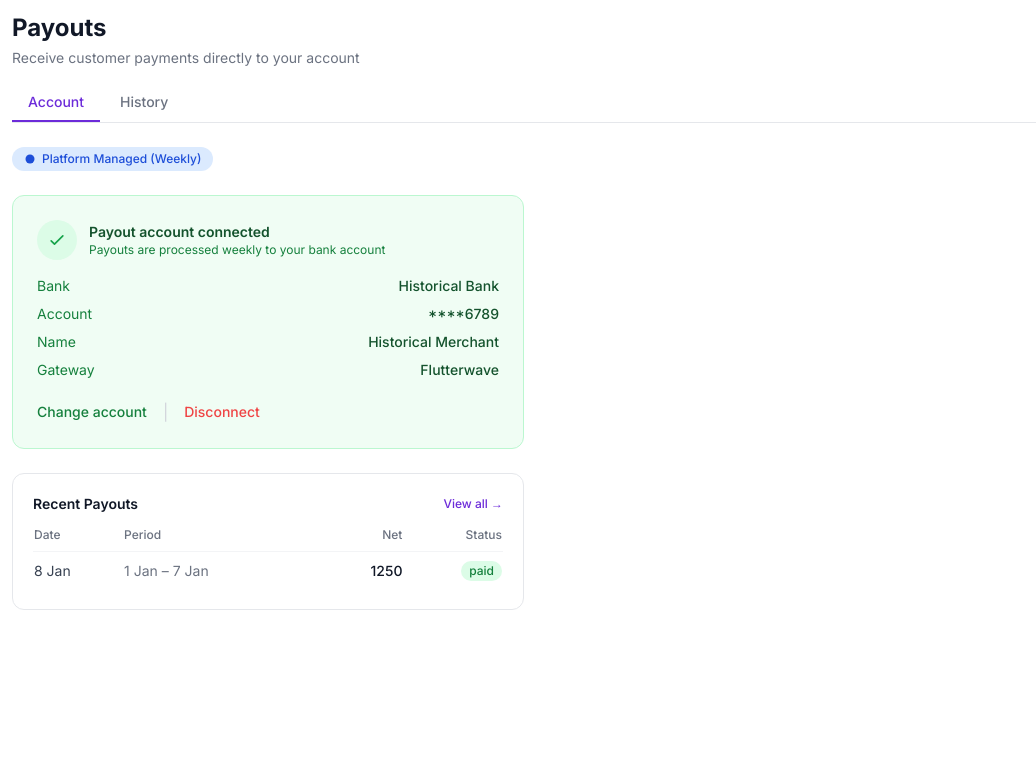
W05 rendered payout setup availability › keeps change-account password confirmation and normalizes the subsequent setup choice
The image size is (1036, 780).
Expected: the text "Payout account connected" is shown, [89,223,270,240]
Click the button "Change account": (92, 412) [37,402,147,422]
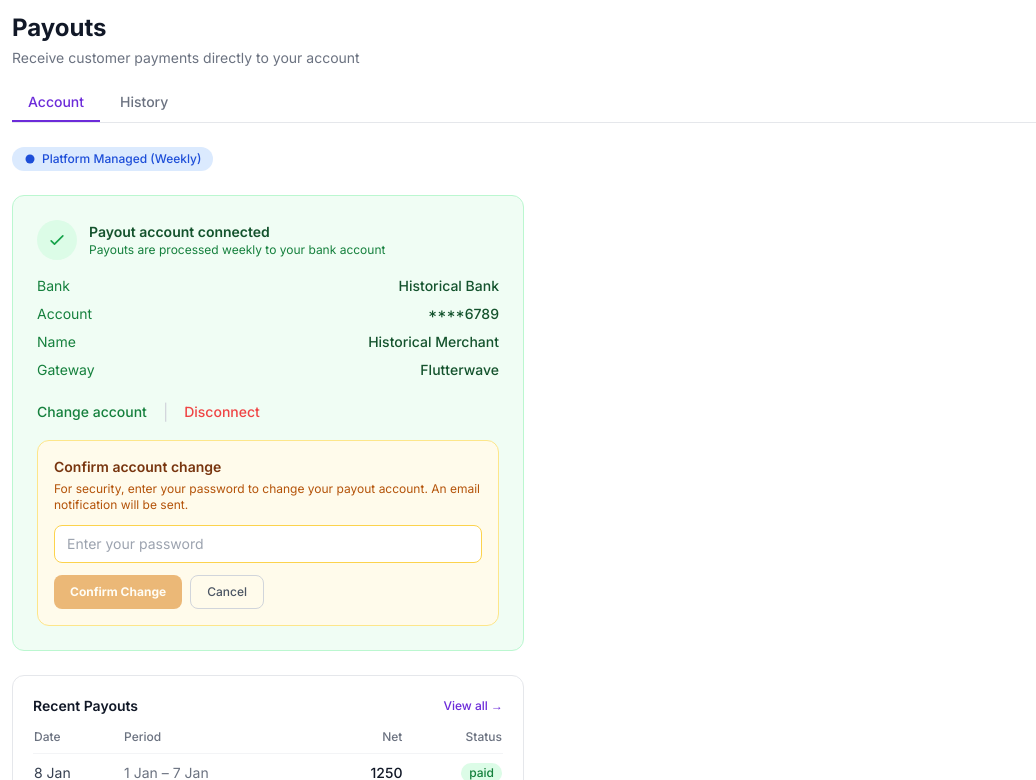
Expected: the button "Confirm Change" is disabled, [54,575,182,609]
In the password field with placeholder "Enter your password": (268, 544) [54,525,482,563], type "correct-password"
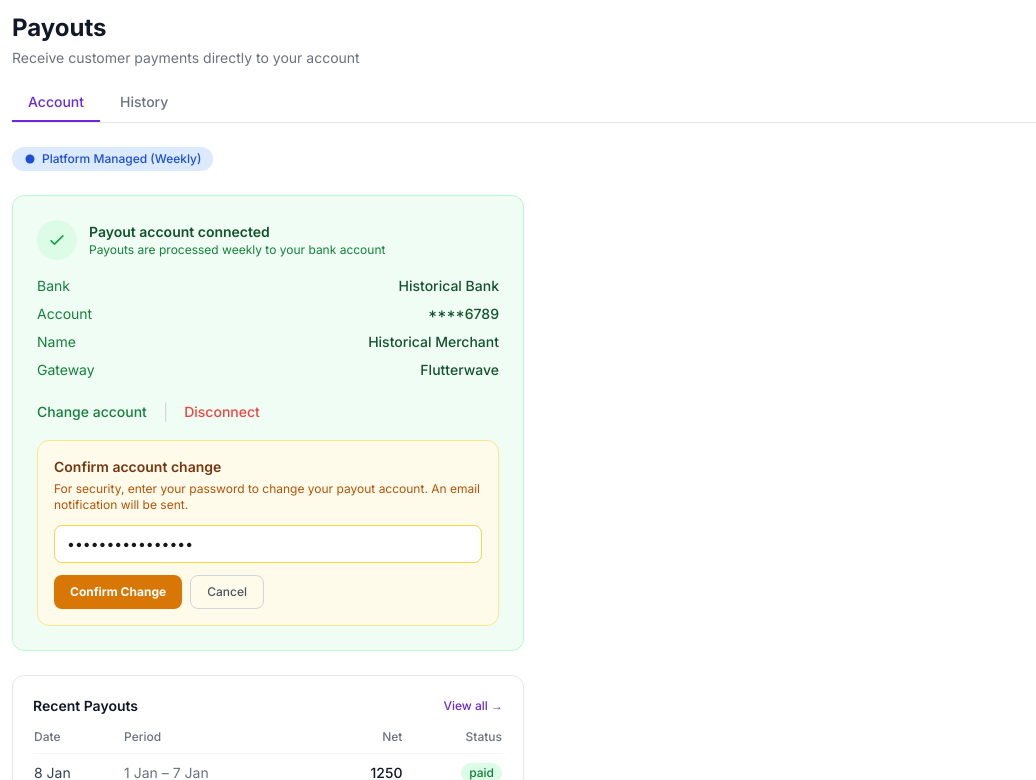
Click the button "Confirm Change": (118, 592) [54,575,182,609]
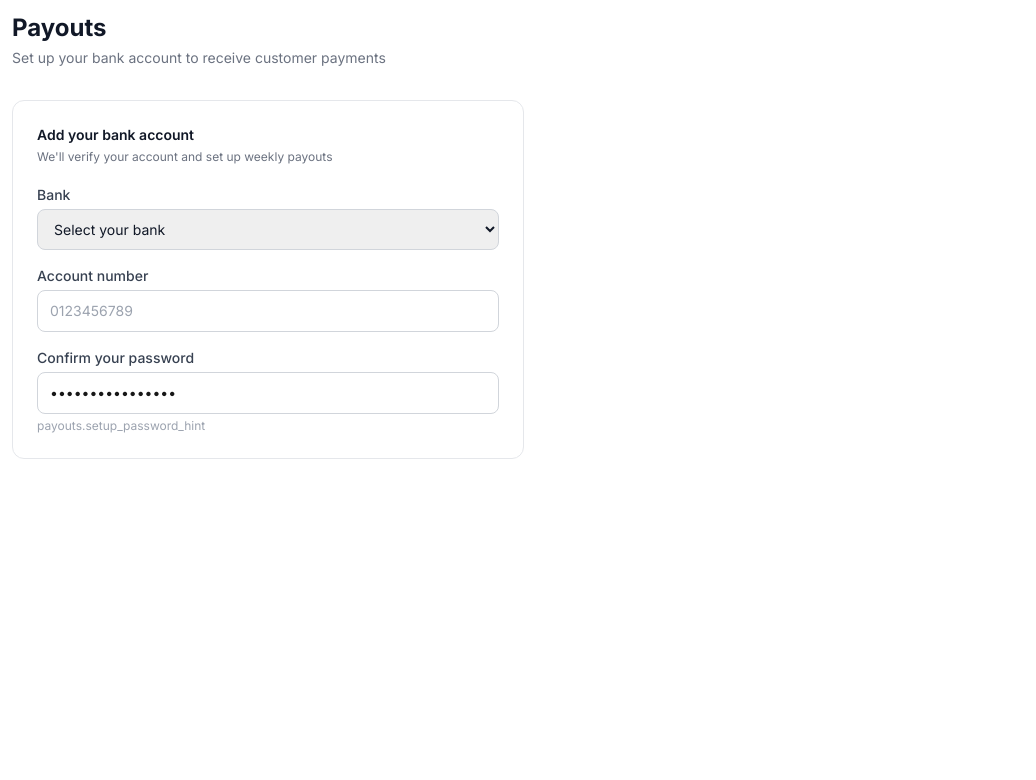
Expected: the password field with placeholder "Enter your account password" holds "correct-password", [37,372,499,414]
